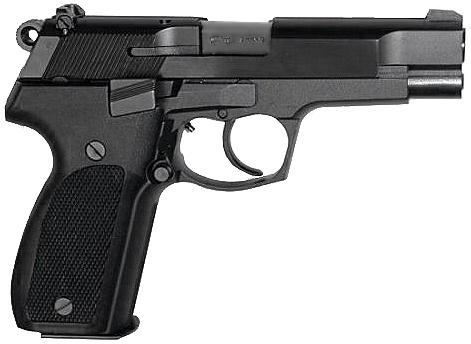blood: (5, 4, 466, 296)
gun: (466, 293, 470, 304)
